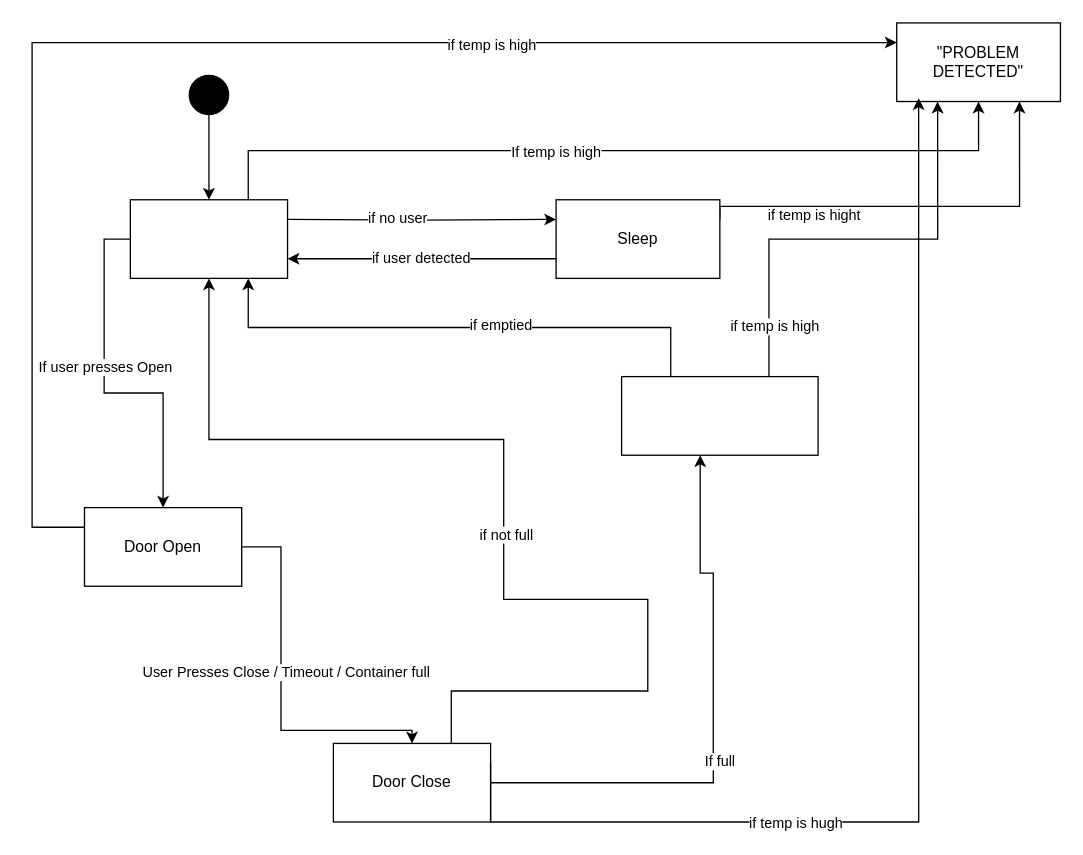
Image size: 1083x855. Some labels were removed from this diagram. The shapes that lost their labels are listed below. From the top down, each one's box as (x1, y1, x2, y2) in pixels, then its label:
(129, 198, 288, 278): Default
(620, 375, 818, 455): CONTAINER IS FULL
